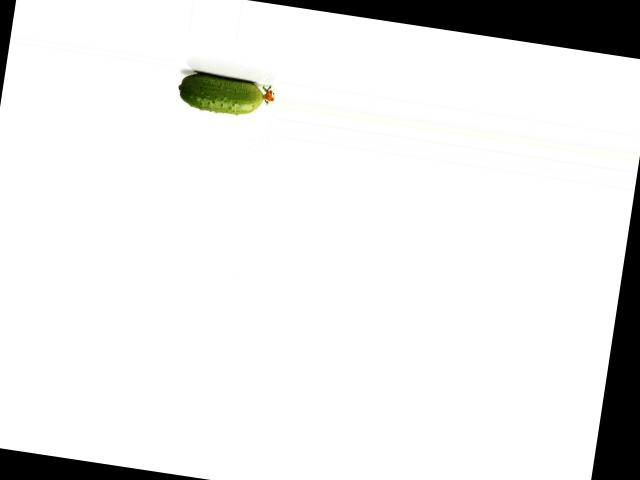cucumber: (174, 69, 275, 119)
